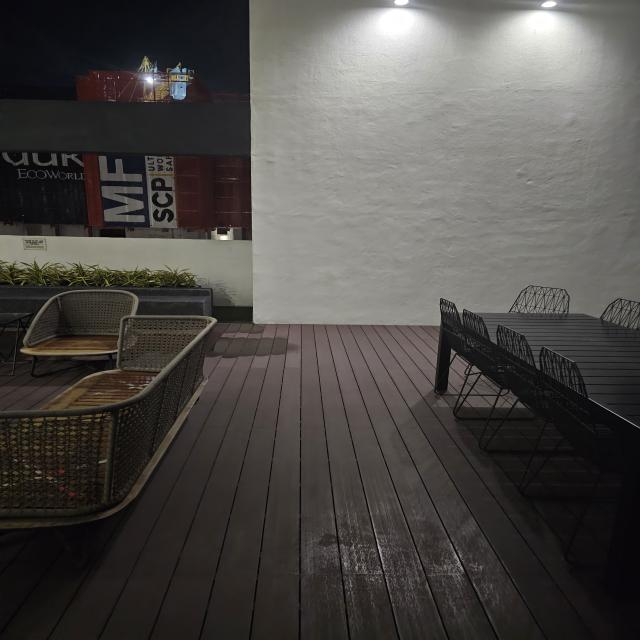footpath: (207, 363, 438, 640)
obstacle: (0, 261, 219, 536), (425, 271, 636, 500)
